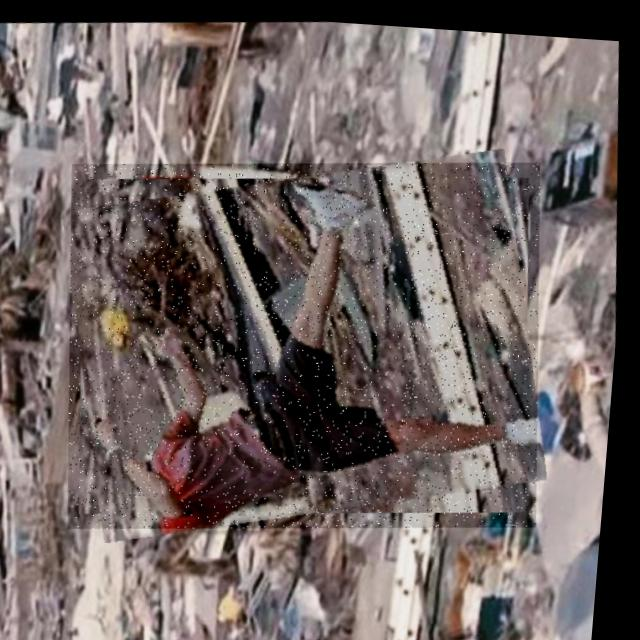Person in Rubble: (51, 129, 567, 551)
